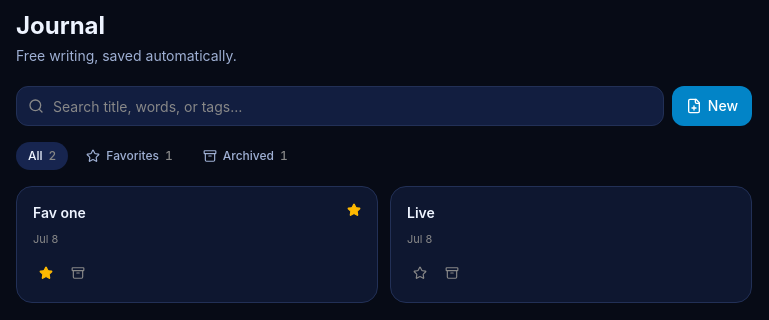
Scenario: JournalHome › switches between All, Favorites, and Archived tabs
Check: the button "Fav one" is shown, box [33,203,86,223]
Check: the button "Live" is shown, box [407,203,435,223]
Click the tab "Favorites 1": (130, 156) [74,142,185,170]
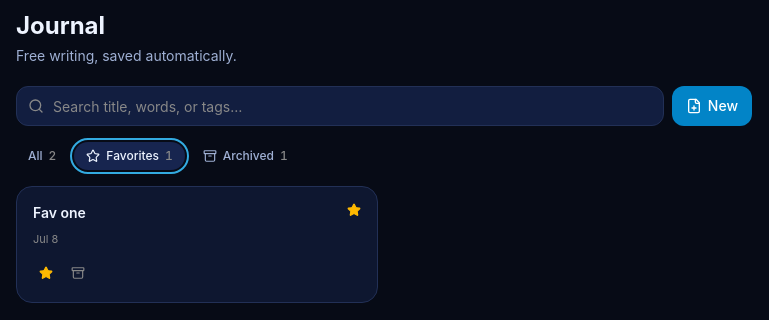
Check: the button "Fav one" is shown, box [33,203,86,223]
Check: the button "Live" is gone
Click the tab "Archived 1": (245, 156) [191,142,300,170]
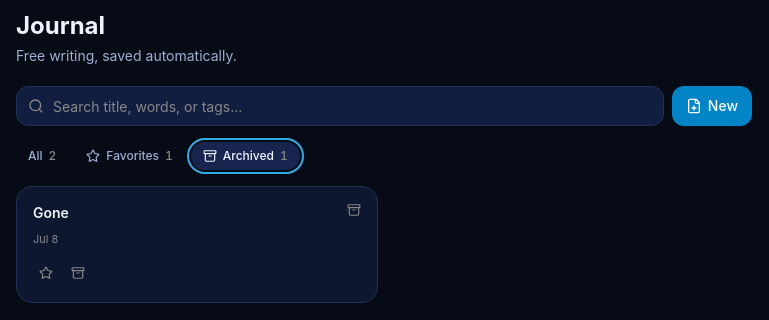
Check: the button "Gone" is shown, box [33,203,69,223]
Check: the button "Fav one" is gone
